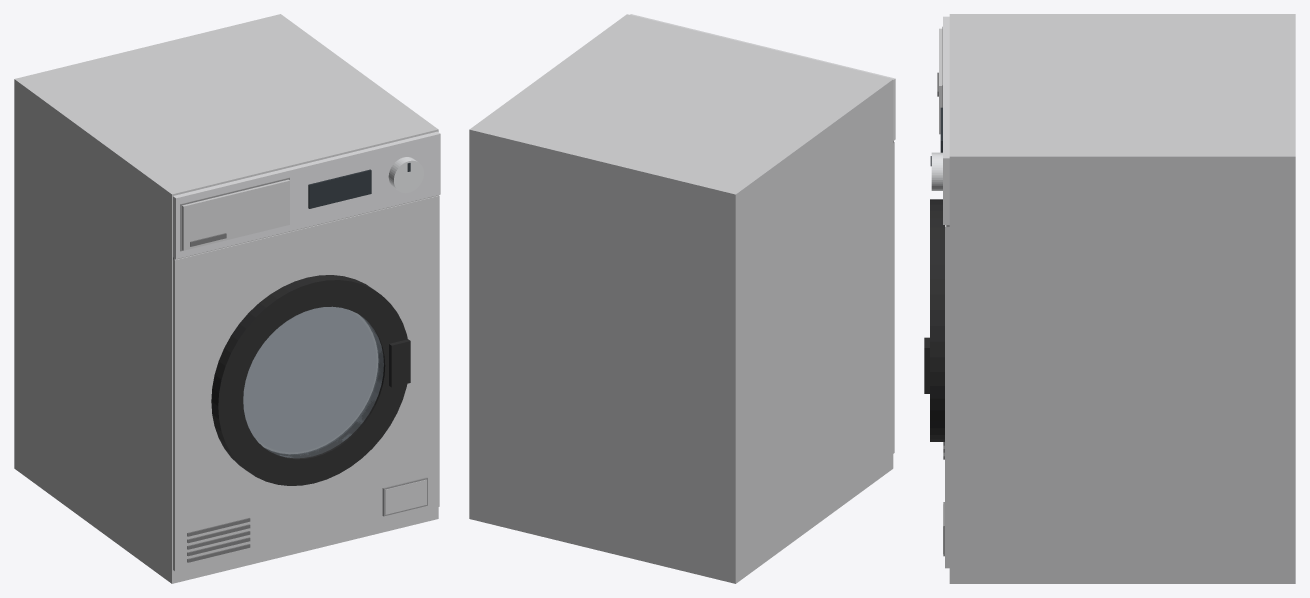
File: trockner.glb
3 views of the same model, side by side, from view 1: azimuth 30°, elevation 25°; view 2: azimuth 150°, elevation 25°; view 3: azimuth 270°, elevation 25° (orthographic). The views are drawn at different scales.
Parts seen in each view (by area): view 1: Gehäuse, Türring, Glas, Trommel, Bedienblende, Graphit, Display, Chrom, Fuge; view 2: Gehäuse, Bedienblende; view 3: Gehäuse, Türring, Bedienblende.
Part boxes in pixels (box(x1,y1,x2,y2)): Gehäuse: box(14, 14, 439, 583); Türring: box(211, 275, 410, 485); Glas: box(243, 306, 383, 457); Trommel: box(243, 307, 376, 451); Bedienblende: box(173, 131, 440, 258); Graphit: box(187, 233, 250, 562); Display: box(308, 163, 410, 208); Chrom: box(388, 157, 423, 193); Fuge: box(173, 177, 438, 516); Gehäuse: box(469, 14, 894, 583); Bedienblende: box(630, 14, 895, 140); Gehäuse: box(939, 14, 1295, 583); Türring: box(924, 199, 944, 441); Bedienblende: box(943, 16, 949, 224).
Bounding box in the file's own units: 0.6 × 0.85 × 0.66.
